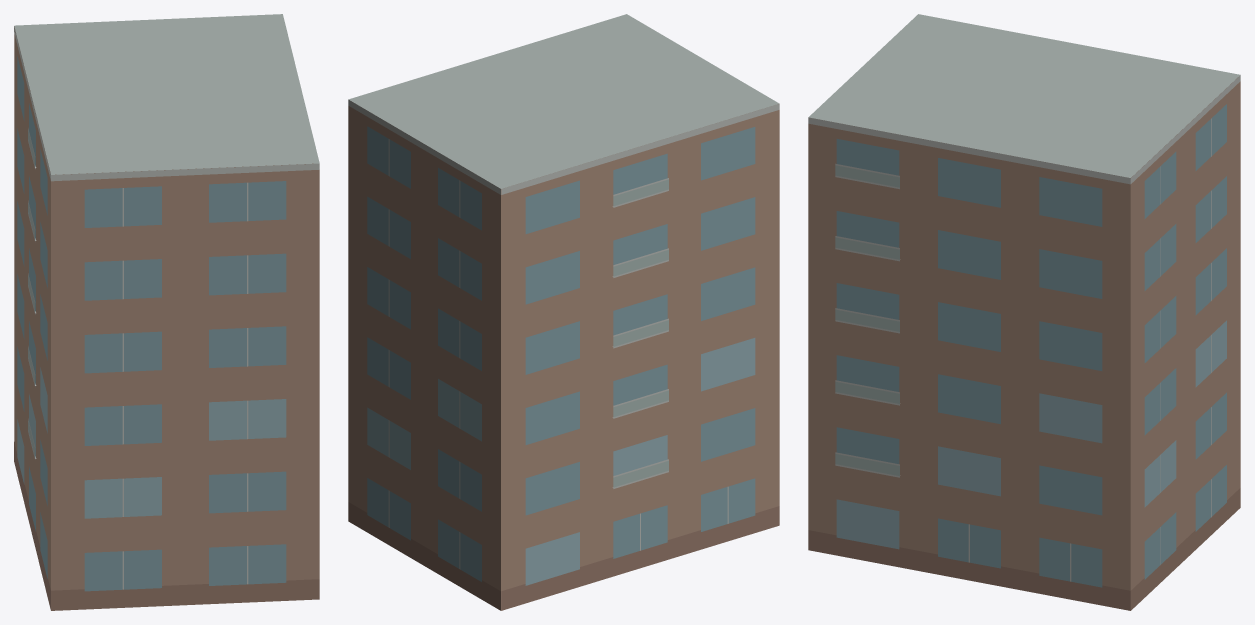
File: survey-upis-32672082.glb
3 renders of one model, left to right at view 1: azimuth 30°, elevation 25°; view 2: azimuth 150°, elevation 25°; view 3: azimuth 270°, elevation 25°, orthographic. The views are drawn at different scales.
Visible parts, largest first — view 1: survey-upis-32672082.tmp; view 2: survey-upis-32672082.tmp; view 3: survey-upis-32672082.tmp.
Boxes of the visible parts, bbox=[...] form: survey-upis-32672082.tmp: bbox=[14, 14, 319, 610]; survey-upis-32672082.tmp: bbox=[348, 14, 779, 610]; survey-upis-32672082.tmp: bbox=[808, 14, 1240, 610].
Bounding box in the file's own units: 13.67 × 16.8 × 15.22.
